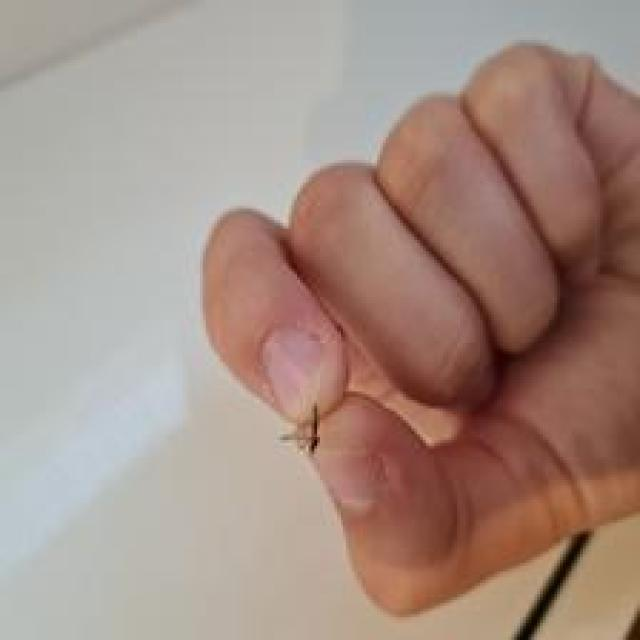Culex: (278, 403, 322, 457)
